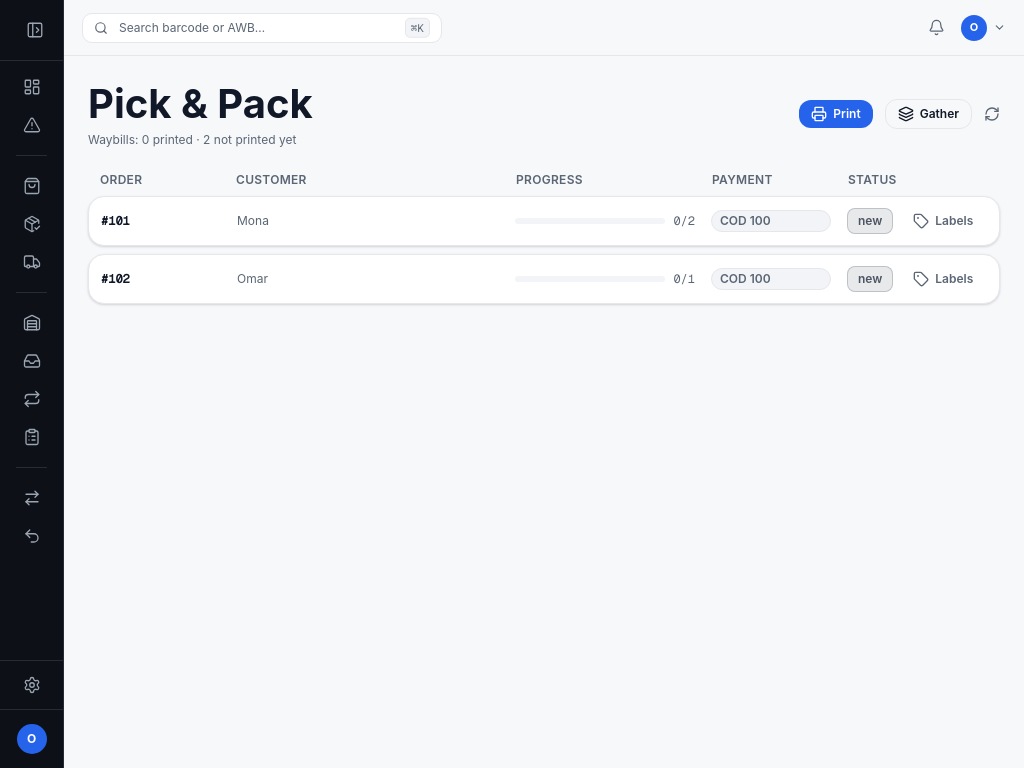
Test: Flexible labeling on, no untagged stock — today's flows › ro2 — Pick & Pack: one Print; waybills ticked; piece labels 0, disabled with its reason
Check: the text "#101" is shown, box [101,213,130,229]
Check: the button "Print waybills" is not shown
Click the button "Print" at (836, 114), box [799,100,873,128]
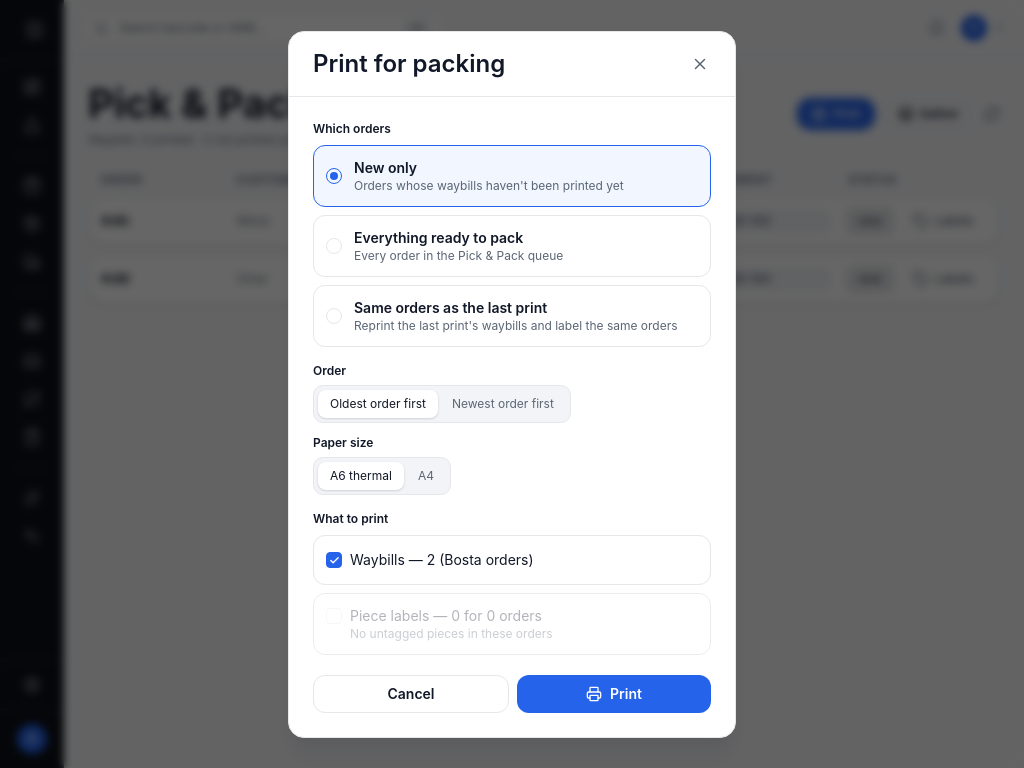
Check: the element with test id "print-what-waybills" reads "Waybills — 2 (Bosta orders)", box [350,551,534,568]
Check: the checkbox labelled "Waybills — 2 (Bosta orders)" is checked, box [326,550,534,570]
Check: the checkbox labelled "Waybills — 2 (Bosta orders)" is enabled, box [326,550,534,570]
Click the button "Print" at (614, 694), box [517,674,711,712]
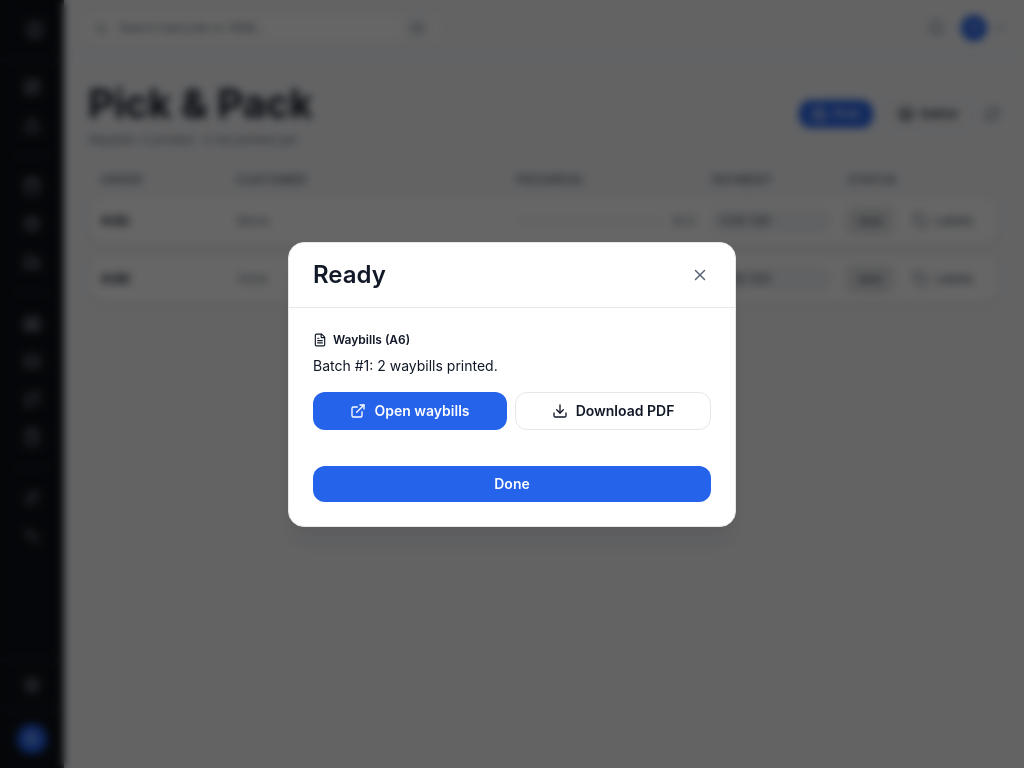
Check: the element with test id "print-ready" is shown, box [313,332,711,502]
